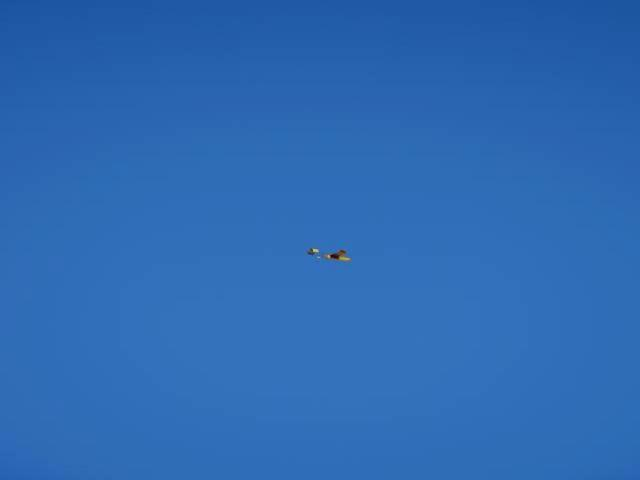iha: (304, 244, 354, 267)
